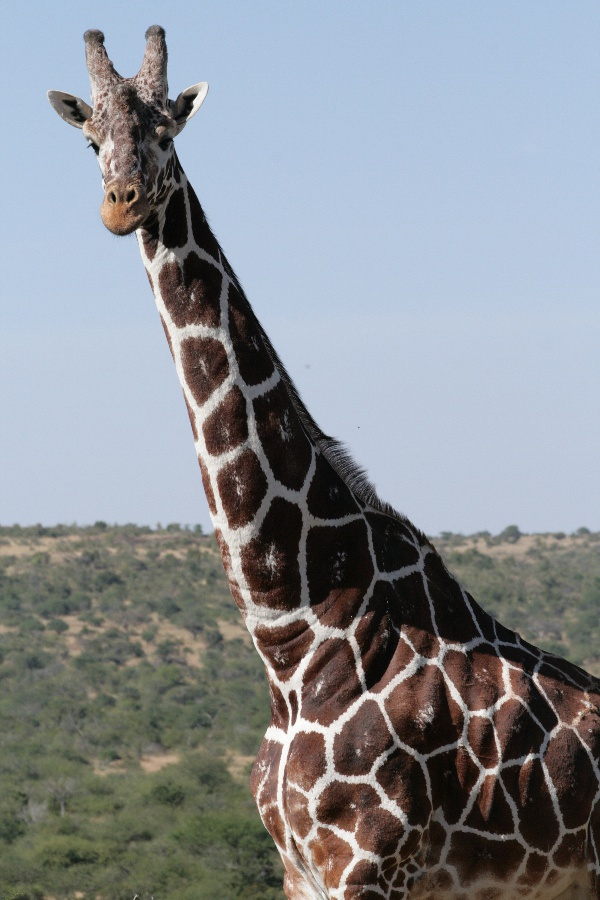giraffe: (31, 4, 598, 889)
